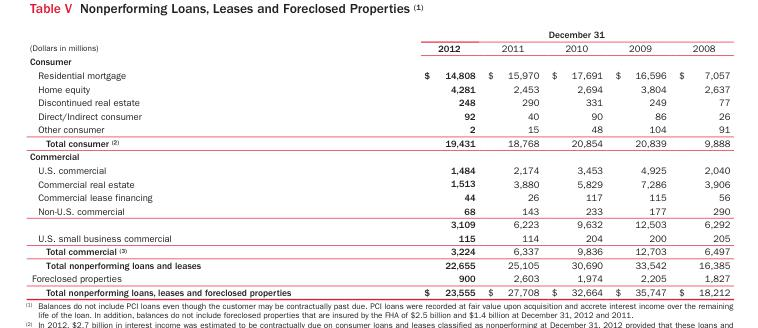table: (29, 28, 729, 297)
table column: (29, 28, 356, 297), (356, 28, 480, 297), (480, 28, 544, 297), (544, 28, 608, 297), (608, 28, 671, 297), (671, 28, 729, 297)
table column header: (29, 28, 729, 54)
table projected row header: (29, 54, 729, 68), (29, 149, 729, 162)
table row: (29, 40, 729, 54), (29, 54, 729, 68), (29, 81, 729, 95), (29, 108, 729, 122), (29, 135, 729, 149), (29, 162, 729, 176), (29, 176, 729, 190), (29, 203, 729, 217), (29, 230, 729, 244), (29, 257, 729, 271), (29, 68, 729, 81), (29, 95, 729, 108), (29, 122, 729, 135), (29, 149, 729, 162), (29, 190, 729, 203), (29, 217, 729, 230), (29, 244, 729, 257), (29, 271, 729, 284), (29, 284, 729, 297), (29, 28, 729, 40)
table spanning cell: (29, 28, 356, 54), (356, 28, 729, 40)
